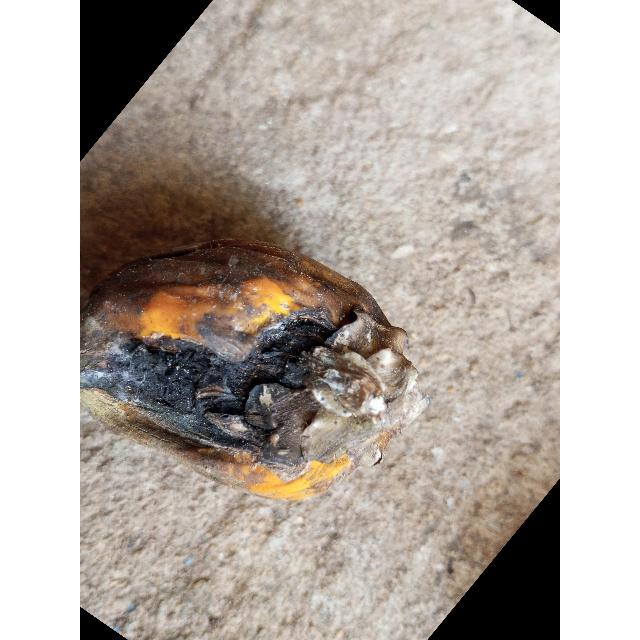damaged: (80, 249, 427, 508)
